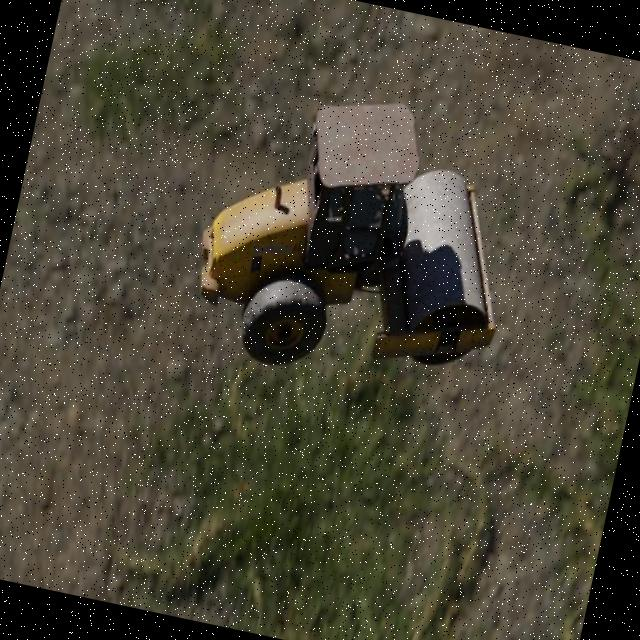Roller: (178, 68, 538, 410)
